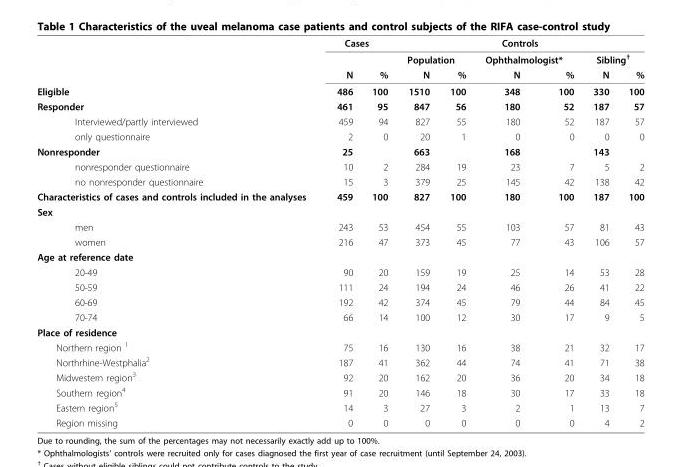table: (36, 36, 643, 428)
table column: (36, 36, 320, 428), (474, 36, 538, 428), (538, 36, 582, 428), (396, 36, 439, 428), (320, 36, 361, 428), (582, 36, 618, 428), (361, 36, 396, 428), (439, 36, 474, 428), (618, 36, 643, 428)
table column header: (36, 36, 643, 82)
table projected row header: (36, 203, 643, 219), (36, 249, 643, 264), (36, 324, 643, 338)
table row: (36, 50, 643, 66), (36, 66, 643, 82), (36, 82, 643, 98), (36, 203, 643, 219), (36, 368, 643, 384), (36, 98, 643, 113), (36, 113, 643, 128), (36, 128, 643, 143), (36, 143, 643, 158), (36, 158, 643, 173), (36, 173, 643, 188), (36, 188, 643, 203), (36, 219, 643, 234), (36, 234, 643, 249), (36, 249, 643, 264), (36, 264, 643, 279), (36, 279, 643, 294), (36, 294, 643, 309), (36, 309, 643, 324), (36, 338, 643, 353), (36, 353, 643, 368), (36, 384, 643, 399), (36, 399, 643, 414), (36, 36, 643, 50), (36, 324, 643, 338), (36, 414, 643, 428)
table spanning cell: (396, 36, 643, 50), (474, 50, 582, 66), (320, 50, 361, 82), (396, 50, 474, 66), (361, 50, 396, 82), (320, 36, 396, 50), (582, 50, 643, 66)
